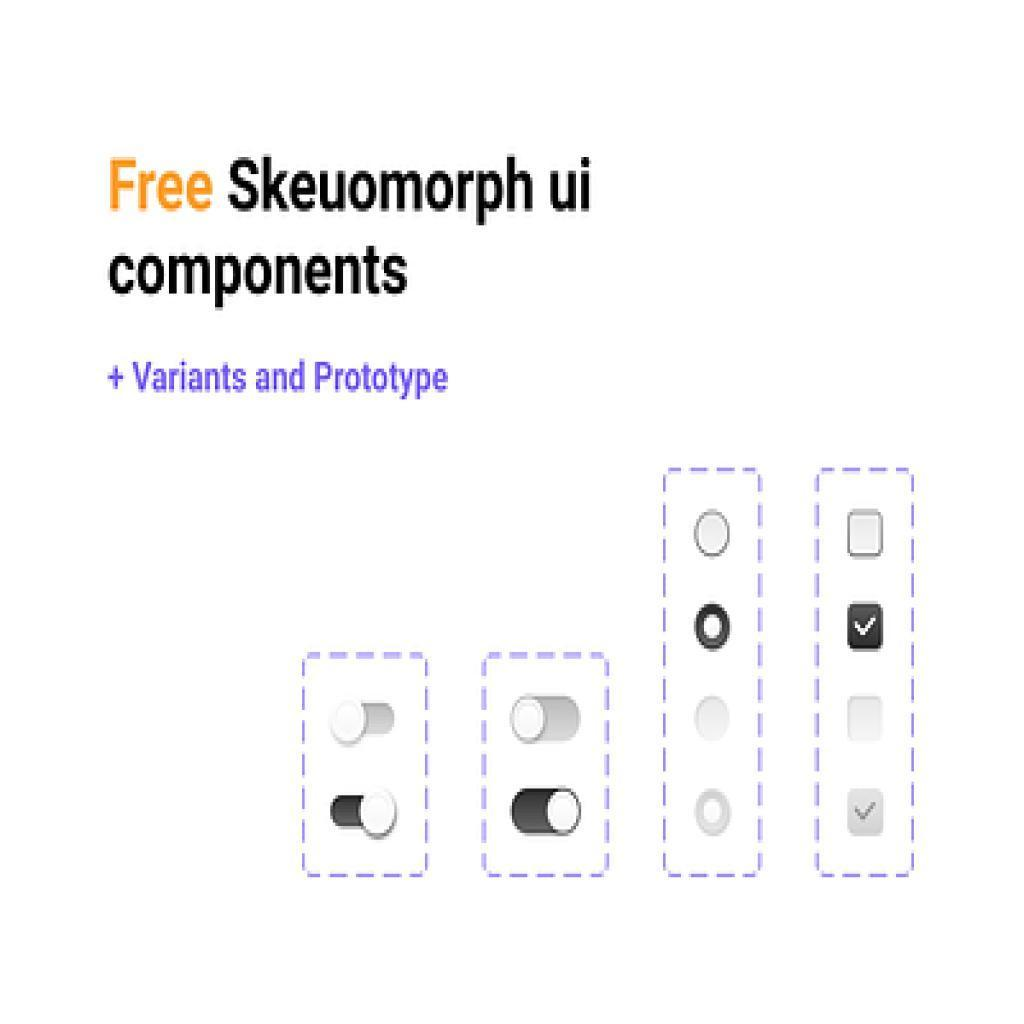checkbox: (846, 696, 886, 743), (846, 603, 885, 650), (847, 790, 885, 838), (850, 512, 884, 557)
radio: (691, 506, 738, 565), (692, 600, 742, 654), (691, 787, 740, 838), (692, 691, 736, 745)
switch: (328, 782, 402, 845), (329, 696, 405, 751), (511, 787, 586, 838), (510, 697, 582, 750)
